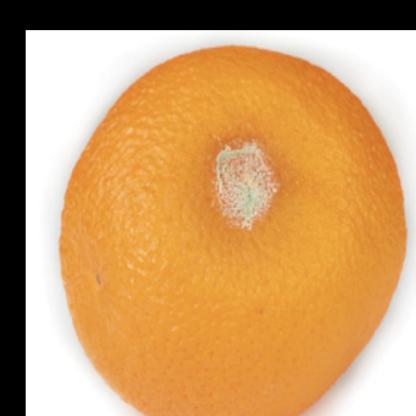rotten: (62, 46, 405, 416)
